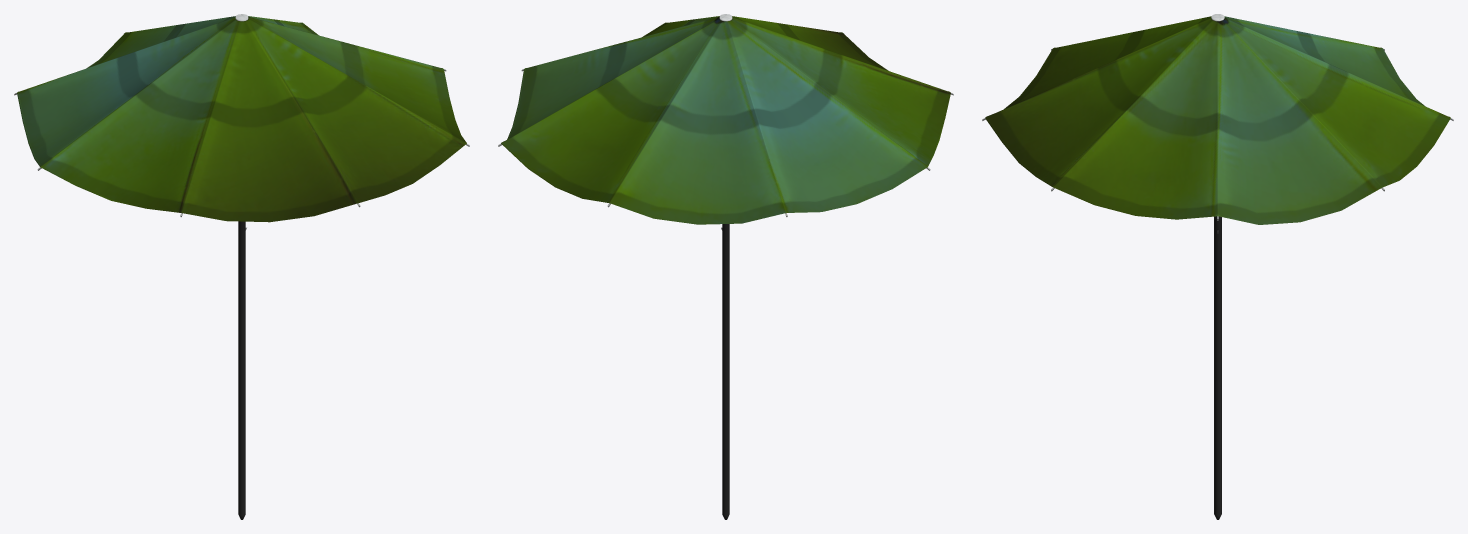
Rendered from Parasol5.fbx.
3 views of the same model, side by side, from view 1: azimuth 30°, elevation 25°; view 2: azimuth 150°, elevation 25°; view 3: azimuth 270°, elevation 25° (orthographic).
Parts seen in each view (by area): view 1: Parasol5_LOD0; view 2: Parasol5_LOD0; view 3: Parasol5_LOD0.
Part boxes in pixels (x1,y1,x2,y2): Parasol5_LOD0: (14, 14, 469, 519); Parasol5_LOD0: (498, 14, 953, 519); Parasol5_LOD0: (982, 14, 1453, 519).
Size of what is drawn, in the model's own units: 203 by 239 by 203.
